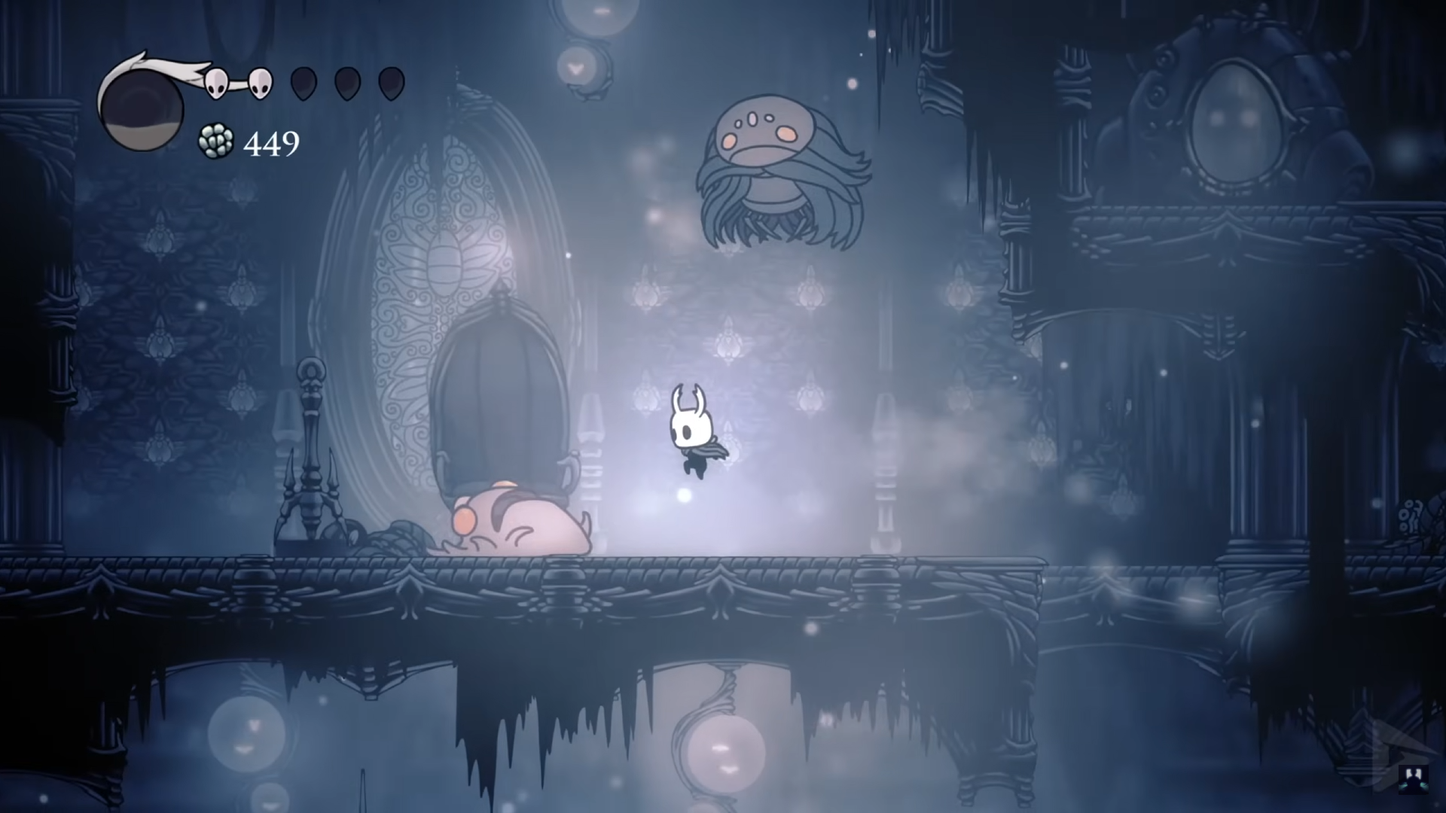HK: (664, 383, 727, 483)
